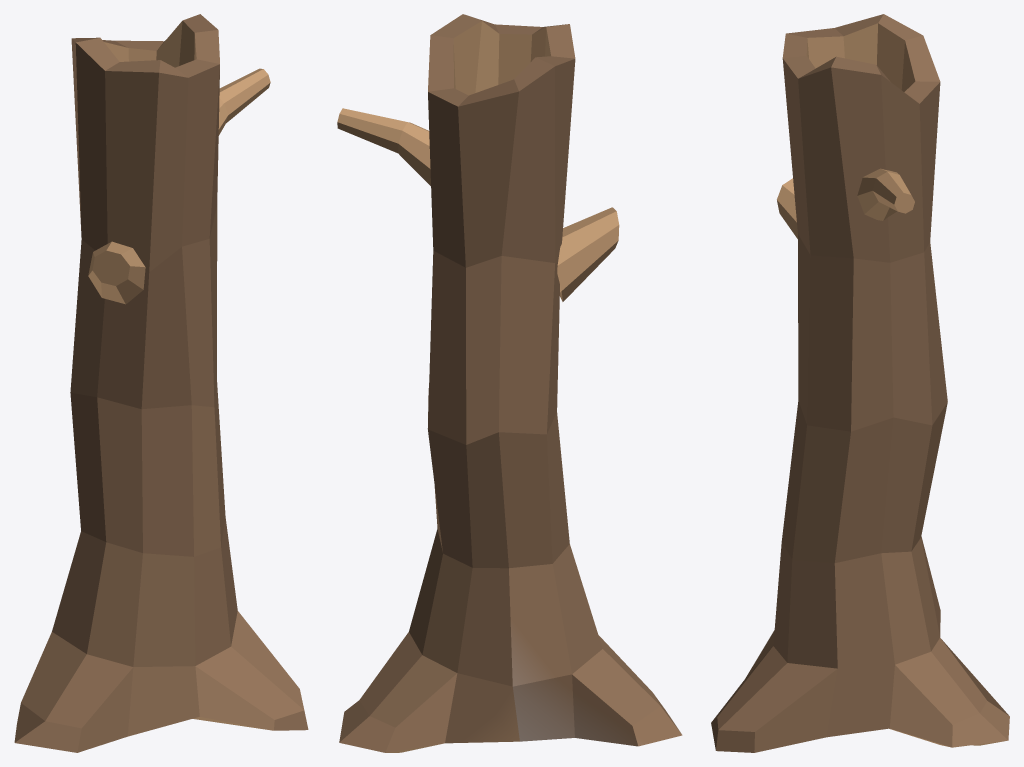
The model's file is trunk.fbx.
3 renders of one model, left to right at view 1: azimuth 30°, elevation 25°; view 2: azimuth 150°, elevation 25°; view 3: azimuth 270°, elevation 25°, orthographic. The views are drawn at different scales.
Visible parts, largest first — view 1: tree-trunk_LOD0; view 2: tree-trunk_LOD0; view 3: tree-trunk_LOD0.
Part boxes in pixels (x1,y1,x2,y2): tree-trunk_LOD0: [14, 14, 308, 752]; tree-trunk_LOD0: [337, 14, 682, 752]; tree-trunk_LOD0: [711, 14, 1009, 752].
Size of what is drawn, in the model's own units: 1.45 by 3.16 by 1.27.
